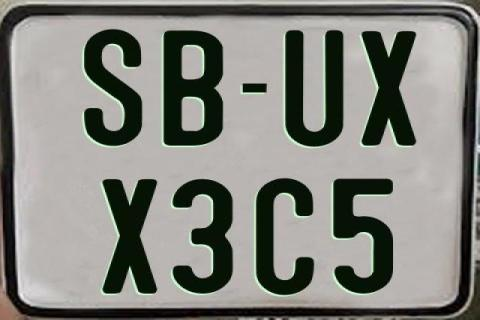0: (170, 180, 234, 296), (330, 176, 391, 292)
B: (163, 30, 225, 148)
C: (255, 178, 318, 300)
S: (82, 28, 140, 149)
U: (282, 29, 340, 145)
X: (360, 30, 420, 148), (104, 179, 164, 296)
